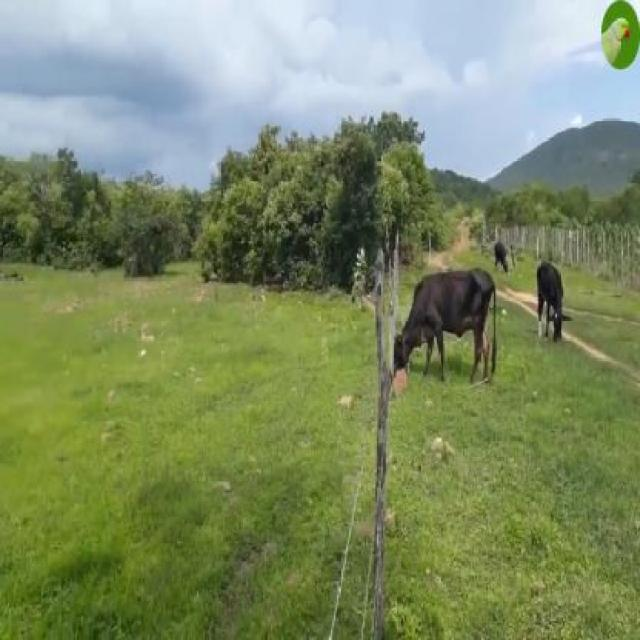Cow: (392, 272, 497, 391)
